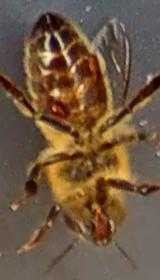varroa_mite: (46, 88, 78, 122), (74, 48, 110, 78)
